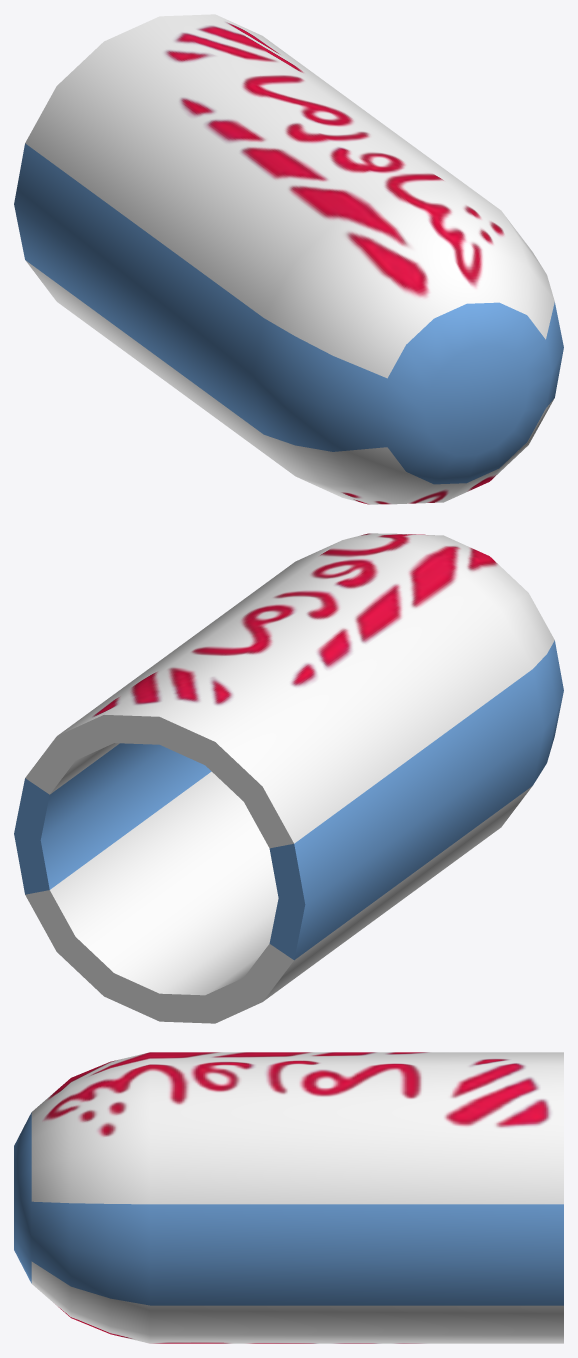
3 views of the same model, one above another, from view 1: azimuth 30°, elevation 25°; view 2: azimuth 150°, elevation 25°; view 3: azimuth 270°, elevation 25° (orthographic). The views are drawn at different scales.
Parts seen in each view (by area): view 1: 柱体; view 2: 柱体; view 3: 柱体.
Boxes of the visible parts, box(x1,y1,x2,y2) form: 柱体: box(14, 14, 563, 504); 柱体: box(14, 533, 563, 1023); 柱体: box(14, 1052, 563, 1343).
Size of the model in its own units: 200 by 200 by 377.
